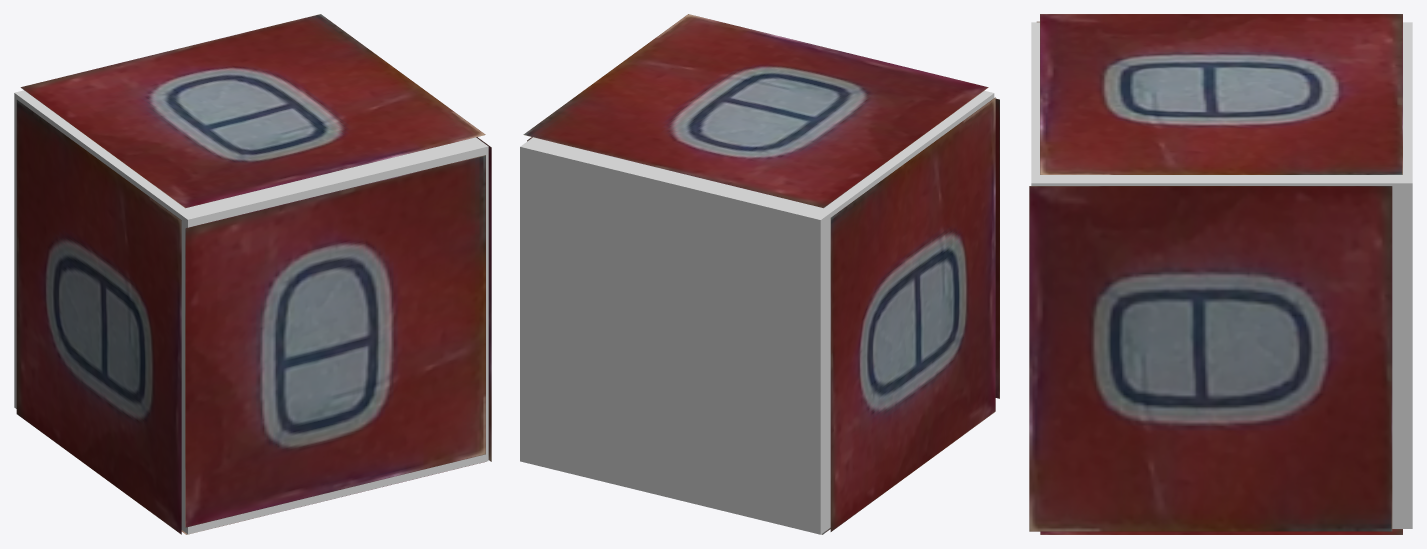
3 renders of one model, left to right at view 1: azimuth 30°, elevation 25°; view 2: azimuth 150°, elevation 25°; view 3: azimuth 270°, elevation 25°, orthographic. The views are drawn at different scales.
Visible parts, largest first — view 1: R2.001, R2.002, R2, Link36, R2.004; view 2: Link36, R2.002, R2, R2.001; view 3: R2.004, R2, Link36, R2.003.
Boxes of the visible parts, box(x1,y1,x2,y2) form: R2.001: box(185, 155, 485, 527); R2.002: box(16, 100, 181, 534); R2: box(20, 14, 485, 208); Link36: box(14, 90, 488, 534); R2.004: box(476, 137, 491, 461); Link36: box(520, 90, 994, 534); R2.002: box(830, 97, 995, 531); R2: box(523, 14, 988, 208); R2.001: box(995, 98, 999, 398); R2.004: box(1029, 186, 1392, 531); R2: box(1040, 14, 1402, 174); Link36: box(1031, 22, 1412, 528); R2.003: box(1040, 529, 1402, 534).
Bounding box in the file's own units: 0.3578 × 0.3529 × 0.3637.
Materials: 1 (1 with a texture image).
